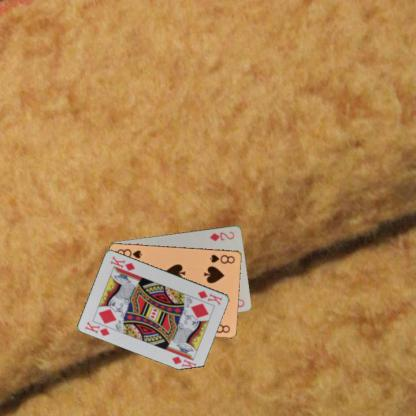2d: (207, 229, 236, 242)
8s: (208, 252, 236, 265)
Kd: (195, 288, 224, 306), (83, 319, 111, 337)
